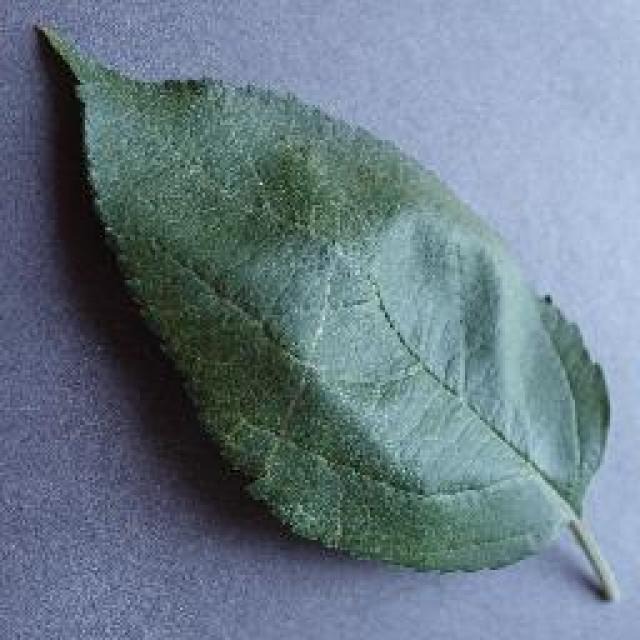apple healthy: (30, 18, 620, 602)
